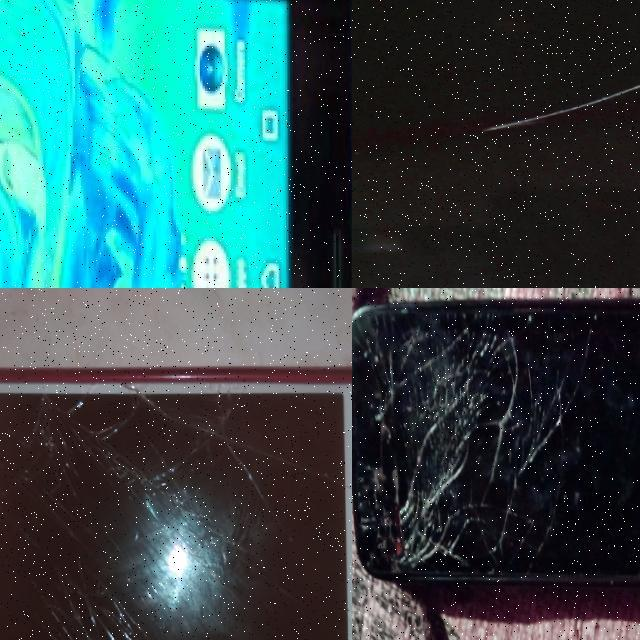scratch: (484, 76, 640, 135)
screen crack: (352, 288, 561, 610), (51, 354, 268, 504), (14, 564, 162, 640)
